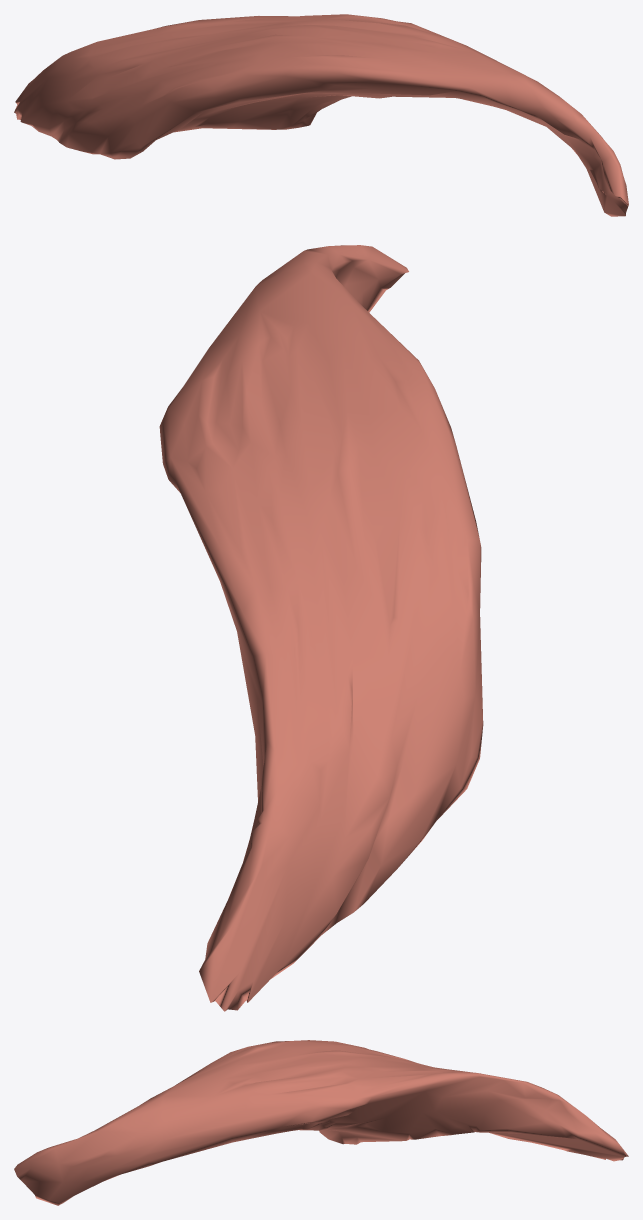
3 renders of one model, top to bottom at view 1: azimuth 30°, elevation 25°; view 2: azimuth 150°, elevation 25°; view 3: azimuth 270°, elevation 25°, orthographic. The views are drawn at different scales.
Parts seen in each view (by area): view 1: 左侧腘肌; view 2: 左侧腘肌; view 3: 左侧腘肌.
Boxes of the visible parts, left/top/right/bottom form: 左侧腘肌: left=14, top=14, right=628, bottom=216; 左侧腘肌: left=159, top=245, right=483, bottom=1011; 左侧腘肌: left=14, top=1040, right=628, bottom=1205.
Bounding box in the file's own units: 0.0872 × 0.0538 × 0.1844.
